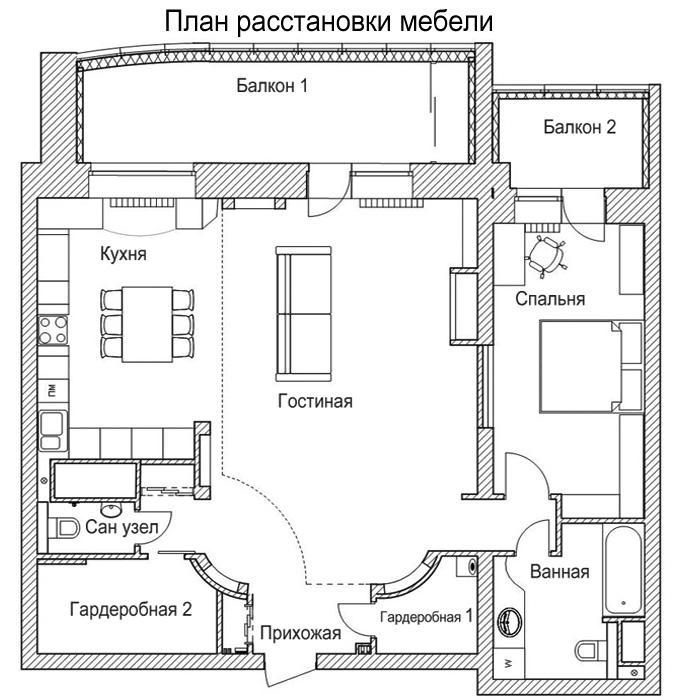balcony: (82, 60, 469, 163), (498, 99, 644, 187)
bathroom: (492, 523, 647, 681)
bedroom: (494, 223, 643, 516)
hallway: (205, 491, 463, 653)
kitchen: (35, 198, 222, 460)
living_room: (222, 197, 478, 496)
toilet: (37, 501, 136, 556)
walk_in_closet: (35, 564, 219, 655), (376, 555, 477, 653)
